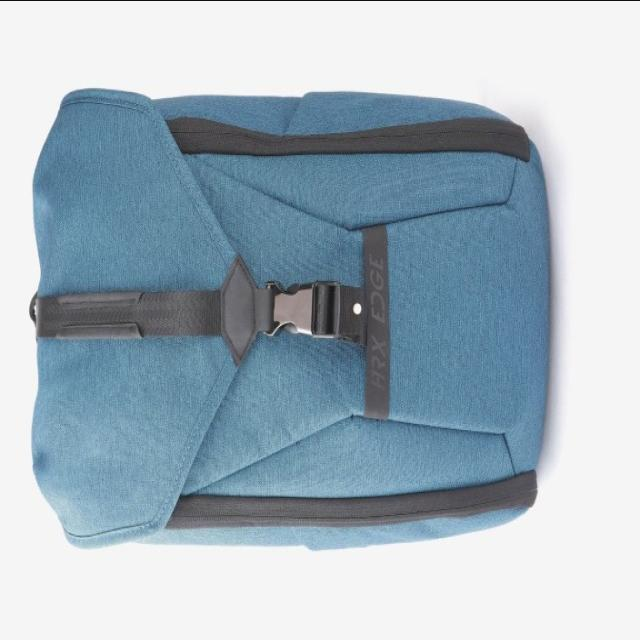backpack: (29, 89, 551, 553)
